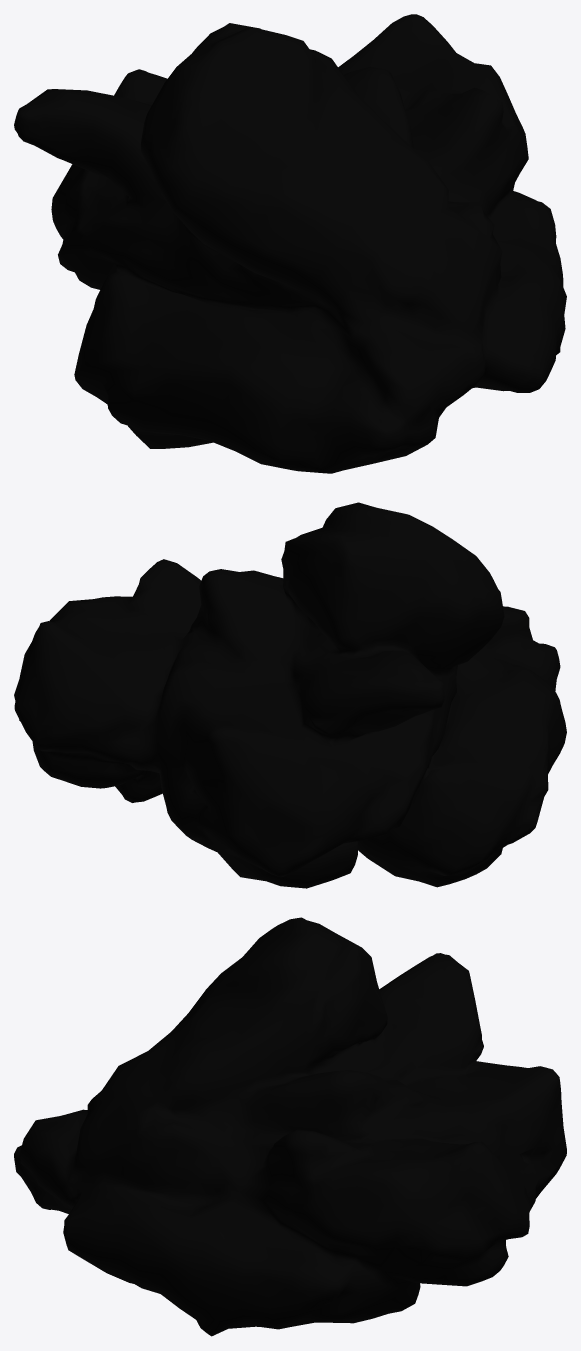
Rendered from SM_Rock_04.fbx.
The picture shows the model from 3 angles, top to bottom: view 1: azimuth 30°, elevation 25°; view 2: azimuth 150°, elevation 25°; view 3: azimuth 270°, elevation 25°; orthographic projection. The views are drawn at different scales.
Visible parts, largest first — view 1: SM_Rock_04_LOD0; view 2: SM_Rock_04_LOD0; view 3: SM_Rock_04_LOD0.
Part boxes in pixels (x1,y1,x2,y2): SM_Rock_04_LOD0: (14, 14, 566, 473); SM_Rock_04_LOD0: (14, 502, 566, 888); SM_Rock_04_LOD0: (14, 917, 566, 1336).
Size of the model in its own units: 708 by 824 by 547.
